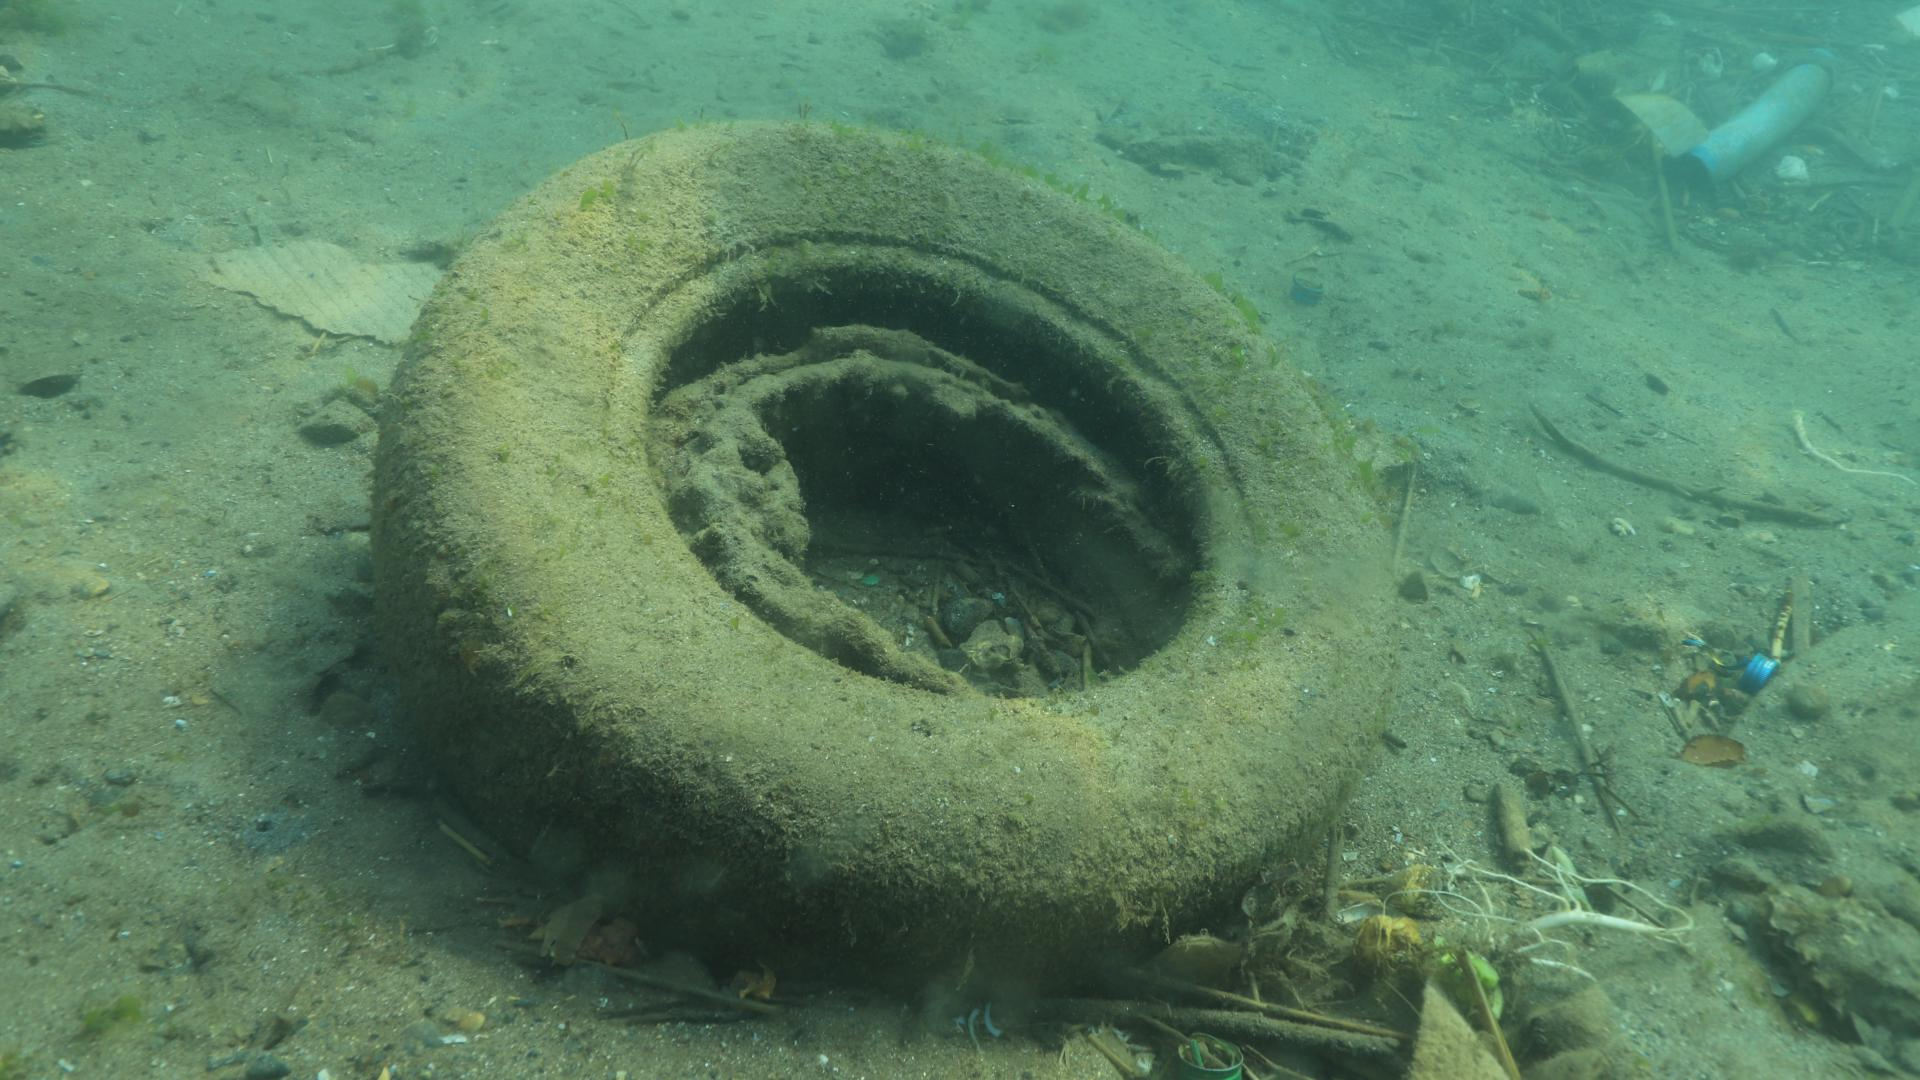tire: (372, 116, 1399, 1014)
